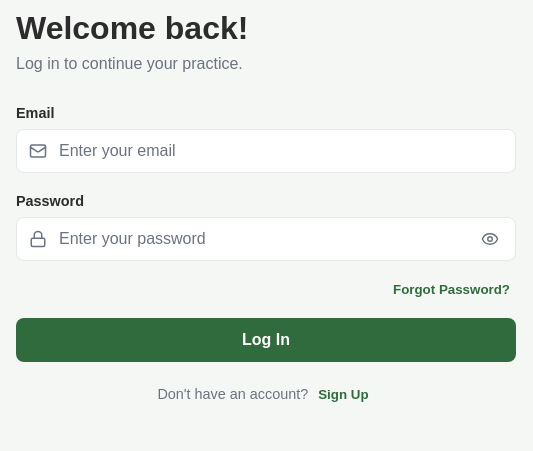
Test: LoginForm › says so instead of 'Invalid email or password' when the server answers with an error
Step 1. Type "anna@example.com" into the field labelled "Email" → (275, 151), box 47,130 -> 503,172
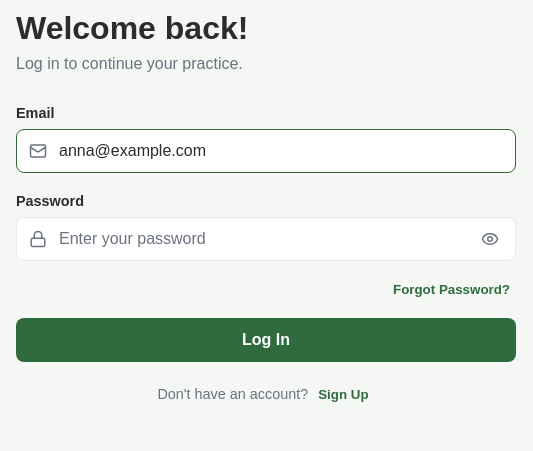
Step 2. Type "password" into the password field labelled "Password" → (262, 239), box 47,218 -> 477,260
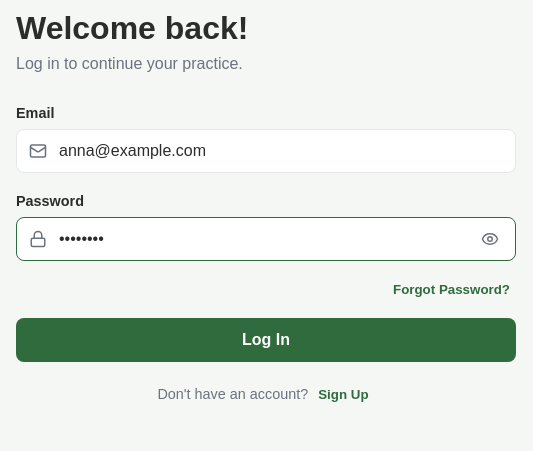
Step 3. Click the button "Log In" → (266, 340), box 16,318 -> 516,362
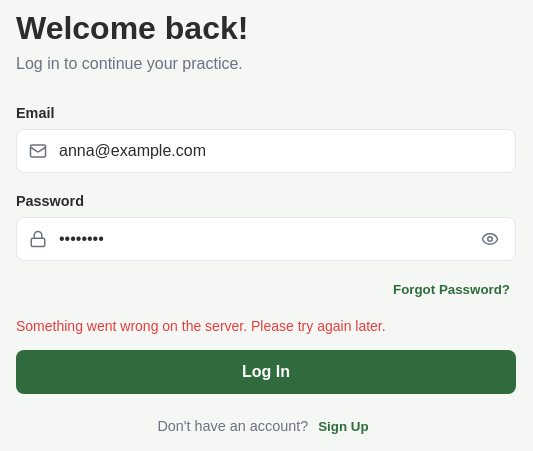
Check: the message shows "Something went wrong on the server", box 16,318 -> 386,334
